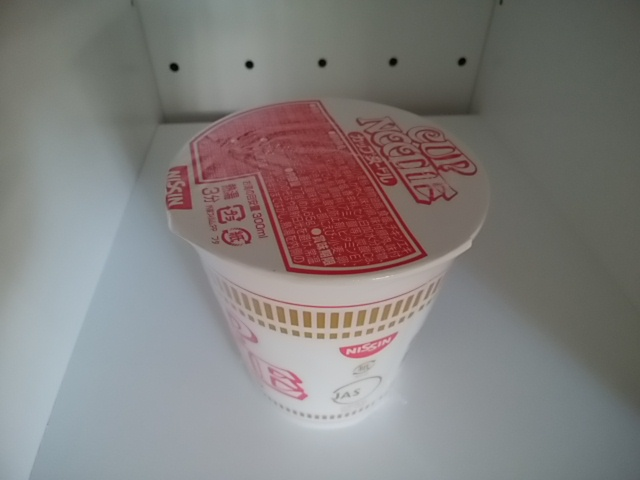cup-ramen: (160, 82, 493, 437)
